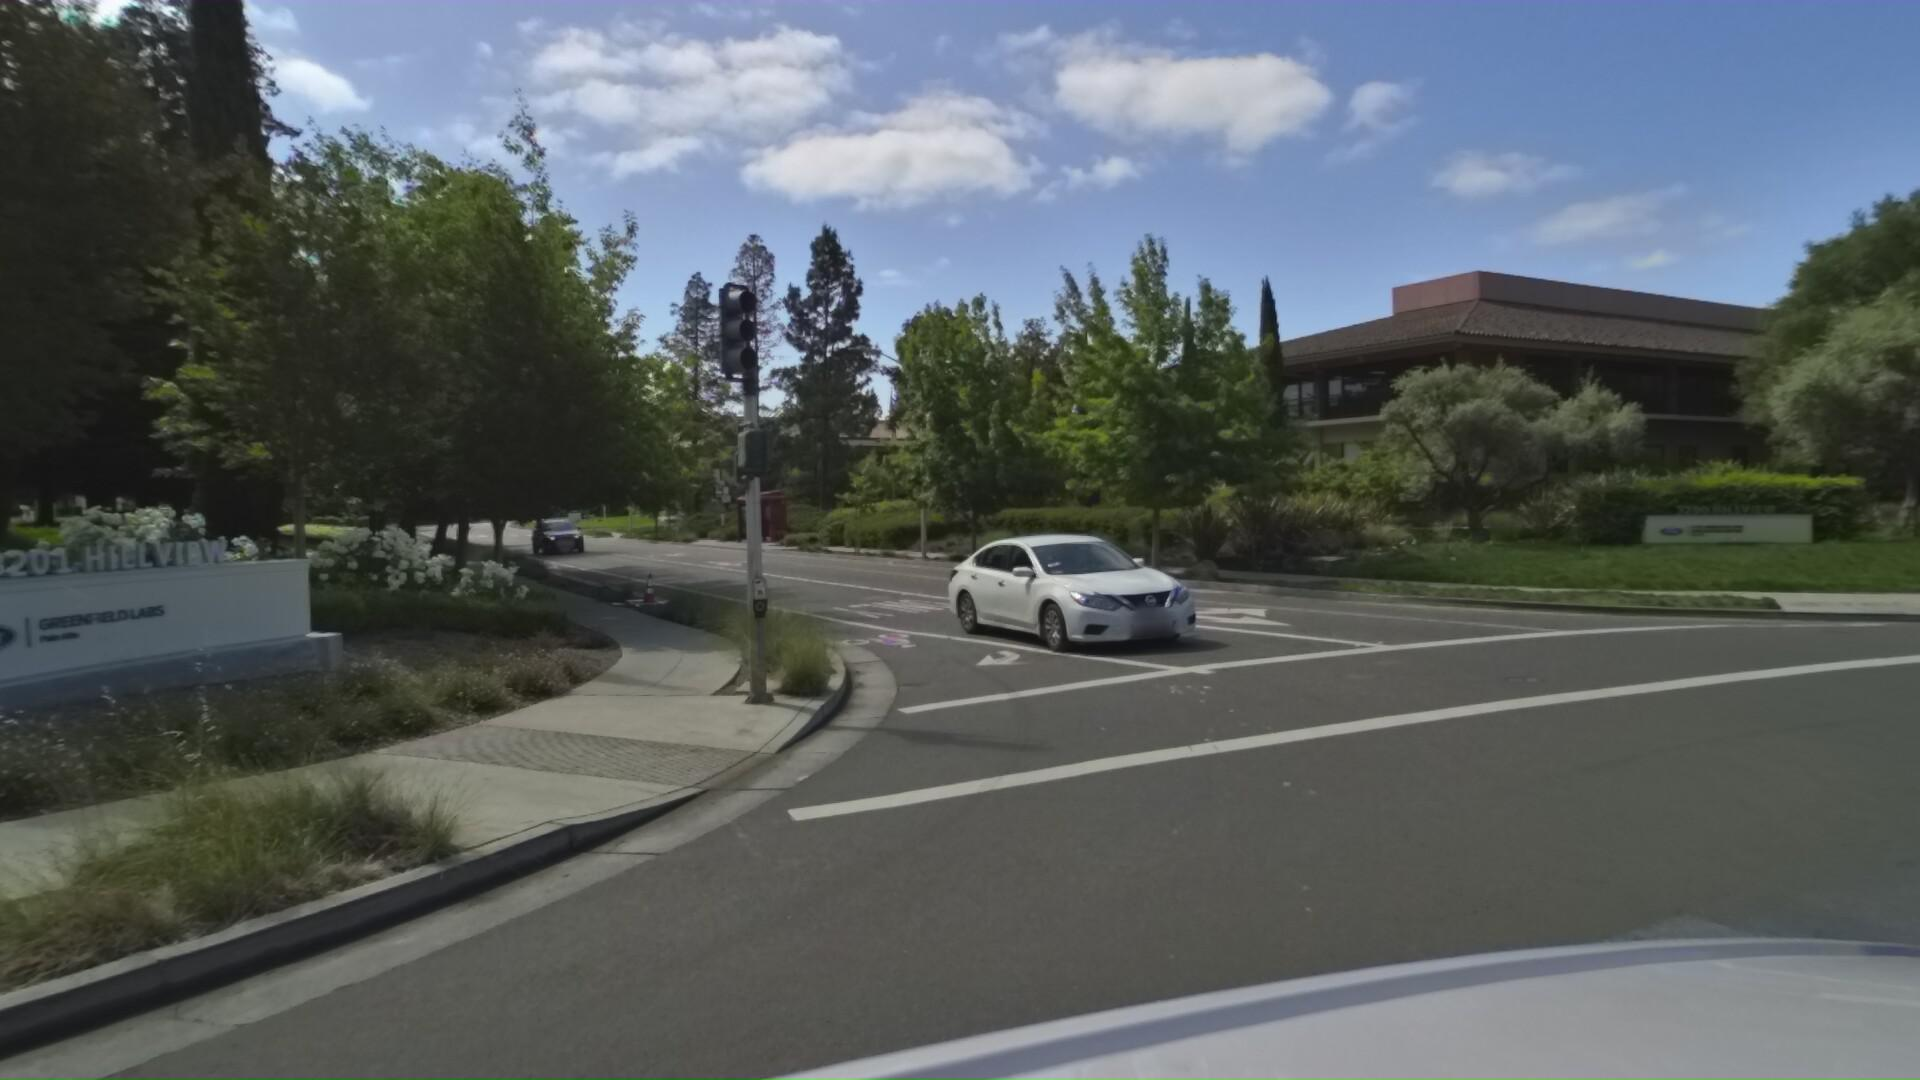car: (948, 514, 1224, 659), (530, 513, 593, 553)
